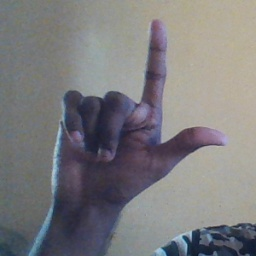L: (42, 20, 229, 200)
